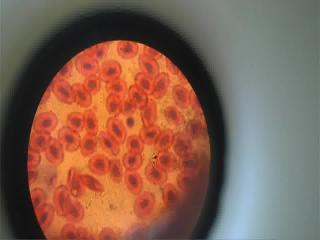cell: (72, 83, 95, 107), (100, 130, 120, 156), (108, 114, 127, 140), (138, 55, 160, 76), (68, 167, 85, 194), (54, 186, 70, 214), (60, 128, 81, 149), (56, 81, 76, 103), (35, 112, 59, 130), (82, 108, 100, 132), (38, 205, 54, 232), (135, 193, 155, 214), (68, 198, 88, 219), (158, 151, 178, 171), (135, 70, 153, 92), (124, 170, 142, 192), (99, 61, 122, 78), (176, 172, 200, 188), (78, 57, 98, 76), (128, 133, 148, 152), (89, 153, 107, 174), (28, 187, 46, 208), (162, 185, 179, 207), (48, 139, 64, 162), (153, 72, 169, 95), (110, 160, 124, 186), (130, 85, 148, 105), (83, 76, 105, 92), (122, 151, 144, 167), (143, 102, 159, 124), (106, 79, 130, 93), (104, 94, 121, 113), (119, 41, 139, 57), (32, 133, 50, 150), (146, 167, 163, 185), (82, 134, 96, 154), (158, 129, 172, 149), (168, 107, 183, 124), (66, 115, 84, 129)
